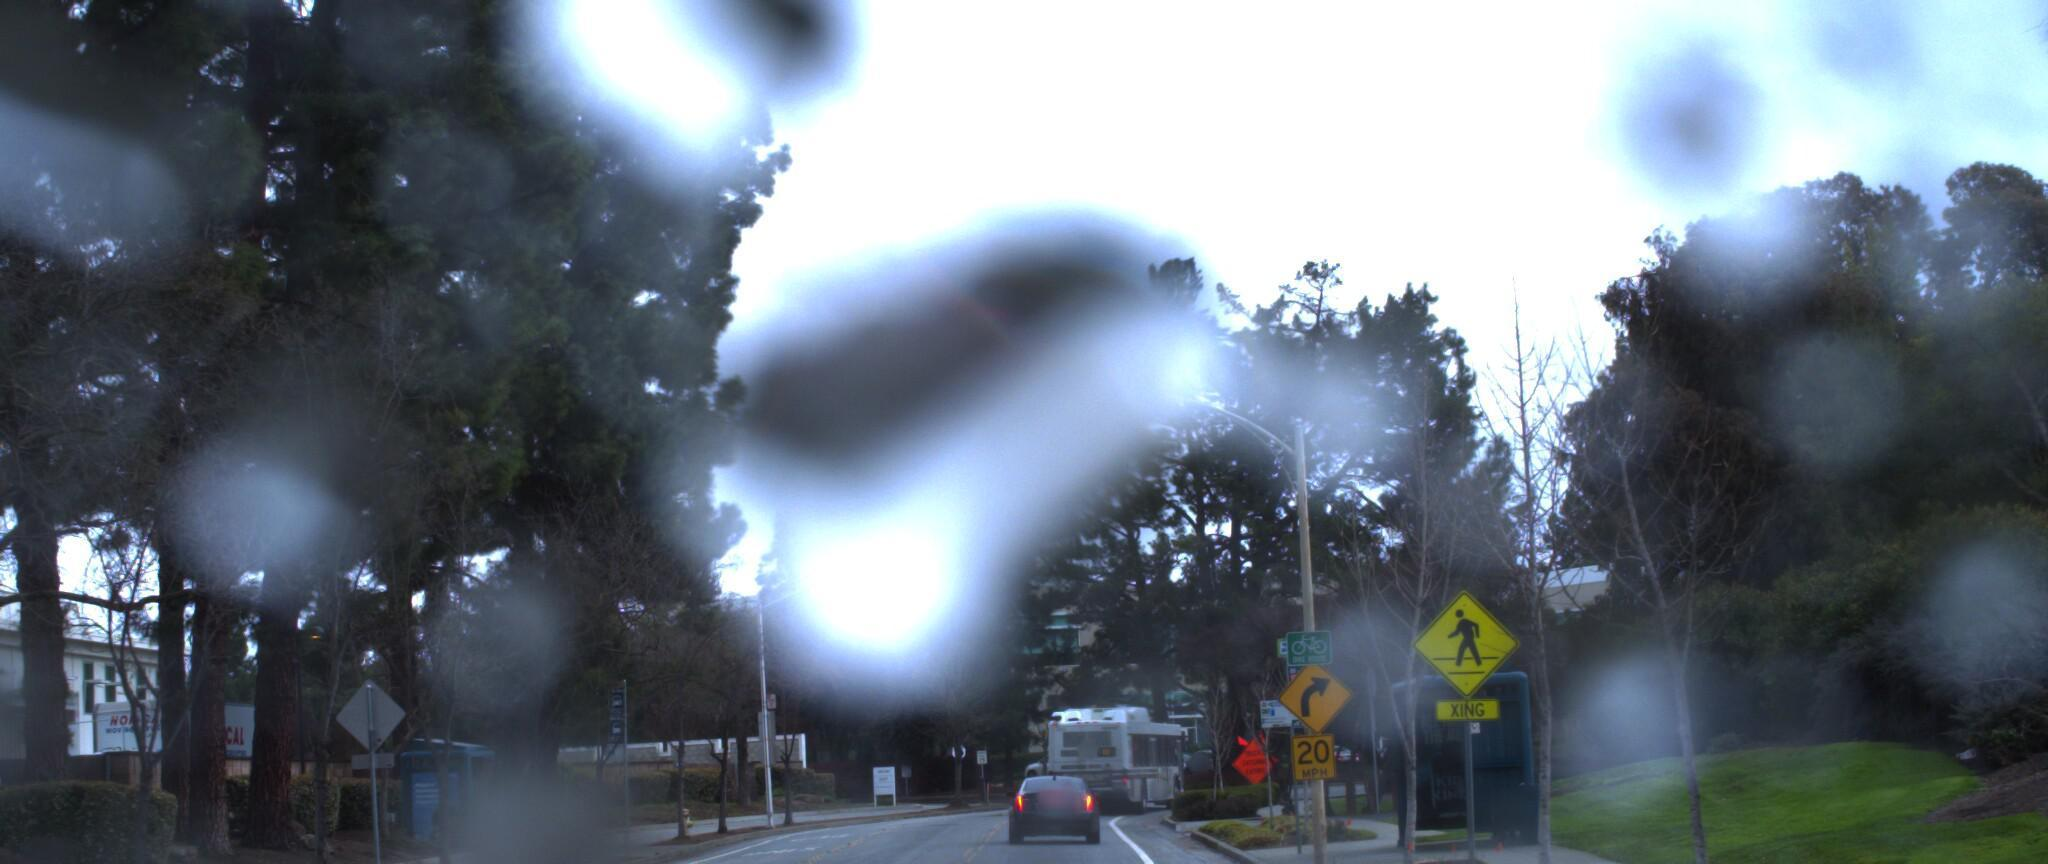car: (999, 782, 1098, 864)
